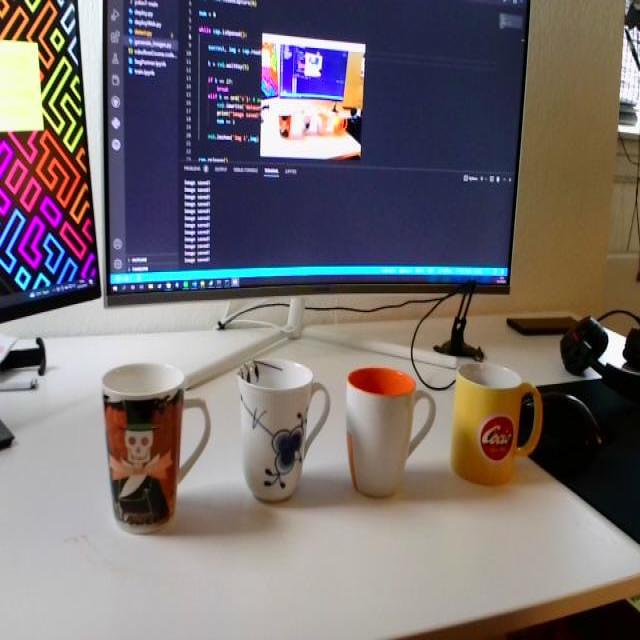cup: (94, 348, 211, 544), (228, 350, 324, 500), (450, 347, 544, 493), (338, 362, 437, 500)
